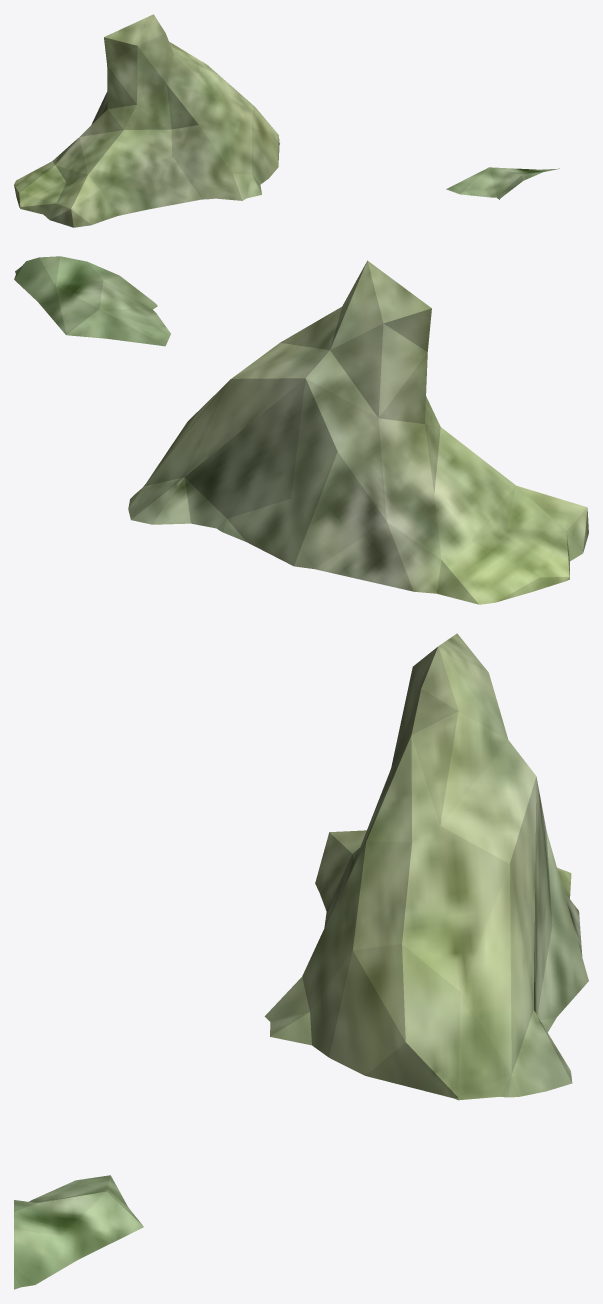
The picture shows the model from 3 angles, top to bottom: view 1: azimuth 30°, elevation 25°; view 2: azimuth 150°, elevation 25°; view 3: azimuth 270°, elevation 25°; orthographic projection. The views are drawn at different scales.
Bounding box in the file's own units: 3.27 × 1.13 × 1.8.
1 material, 1 textured.
